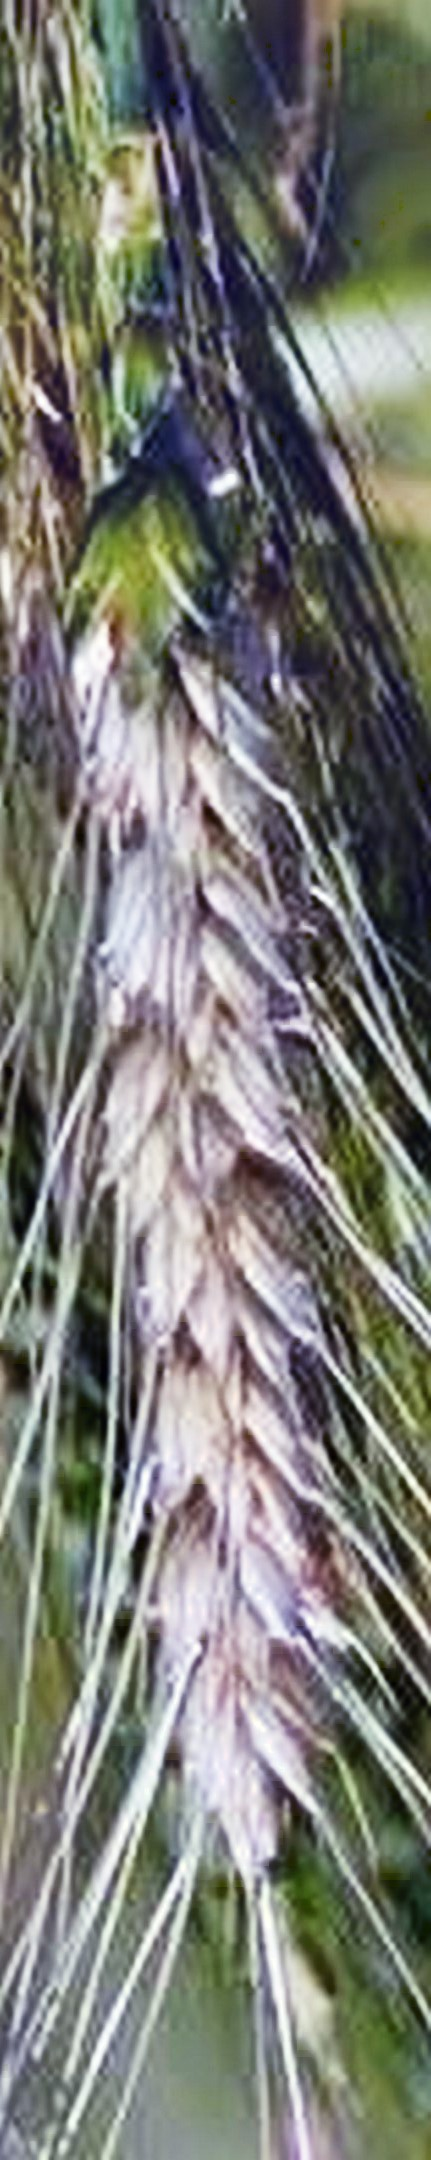Wheat scab: (37, 446, 395, 1868)
